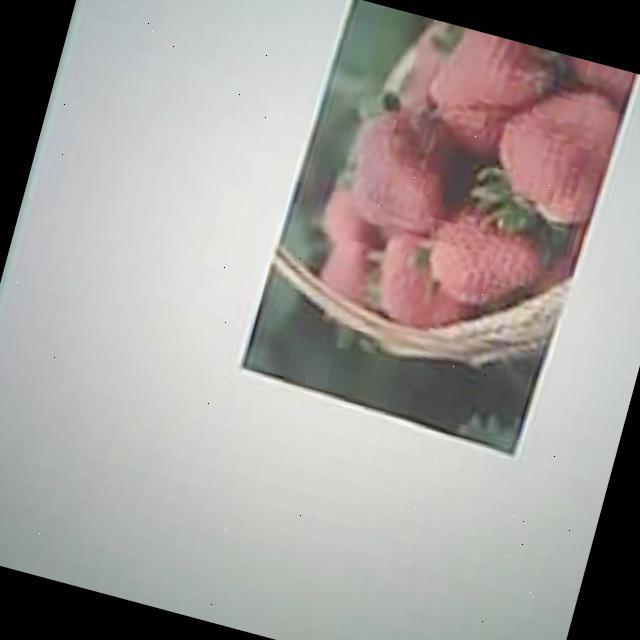strawberry: (485, 74, 622, 230), (420, 201, 551, 317)
